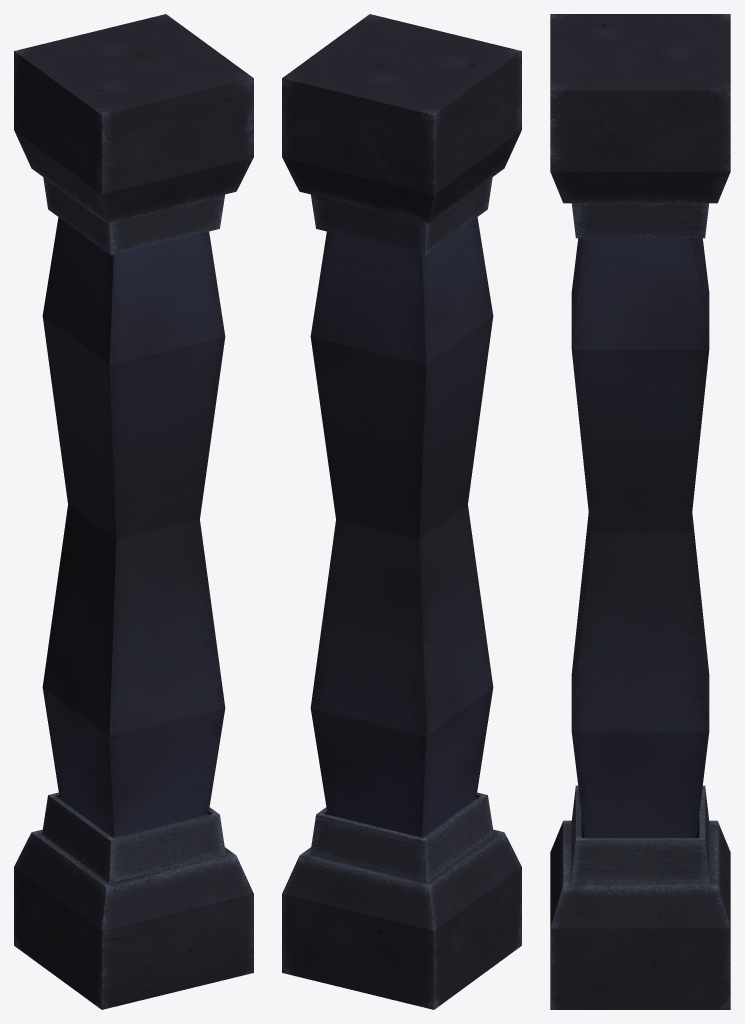
Rendered from pillar.fbx.
3 renders of one model, left to right at view 1: azimuth 30°, elevation 25°; view 2: azimuth 150°, elevation 25°; view 3: azimuth 270°, elevation 25°, orthographic. The views are drawn at different scales.
Parts seen in each view (by area): view 1: Cube; view 2: Cube; view 3: Cube.
Part boxes in pixels (box(x1,y1,x2,y2)): Cube: box(14, 14, 253, 1009); Cube: box(282, 14, 521, 1009); Cube: box(550, 14, 730, 1009).
Size of the model in its own units: 80 by 450 by 80.
1 material, 1 textured.
